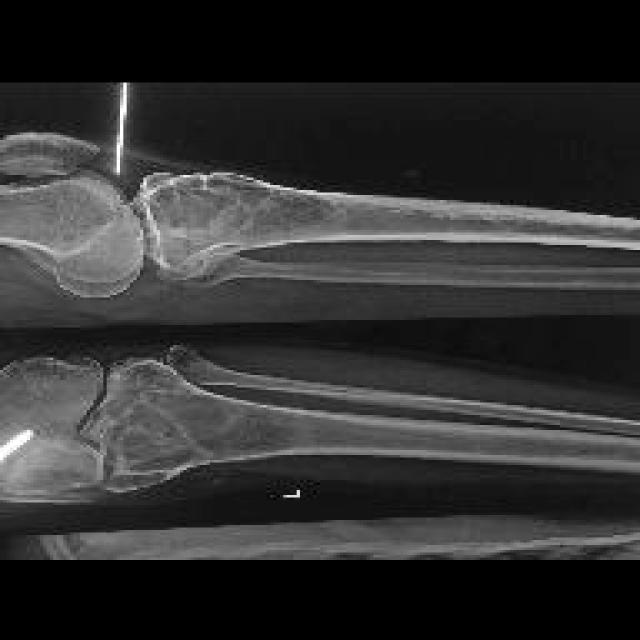bone-cancer: (138, 172, 338, 243), (100, 378, 251, 472)
